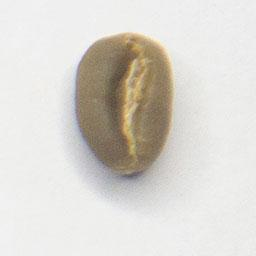peaberry: (70, 29, 177, 177)
